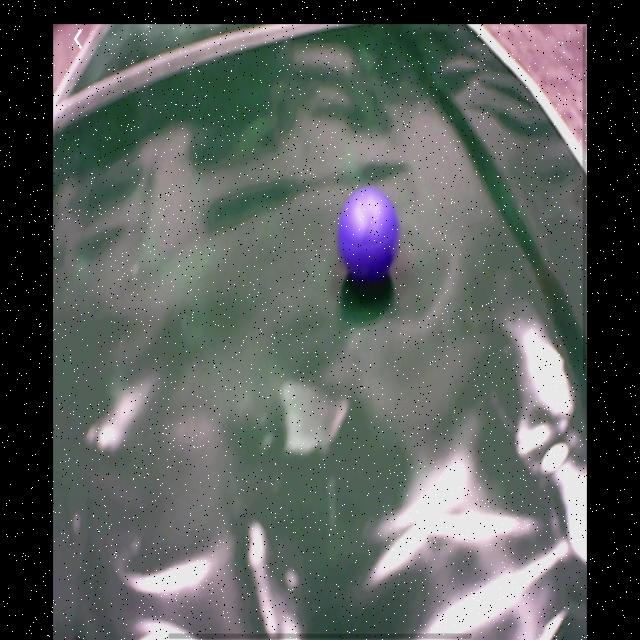ball: (338, 189, 402, 280)
